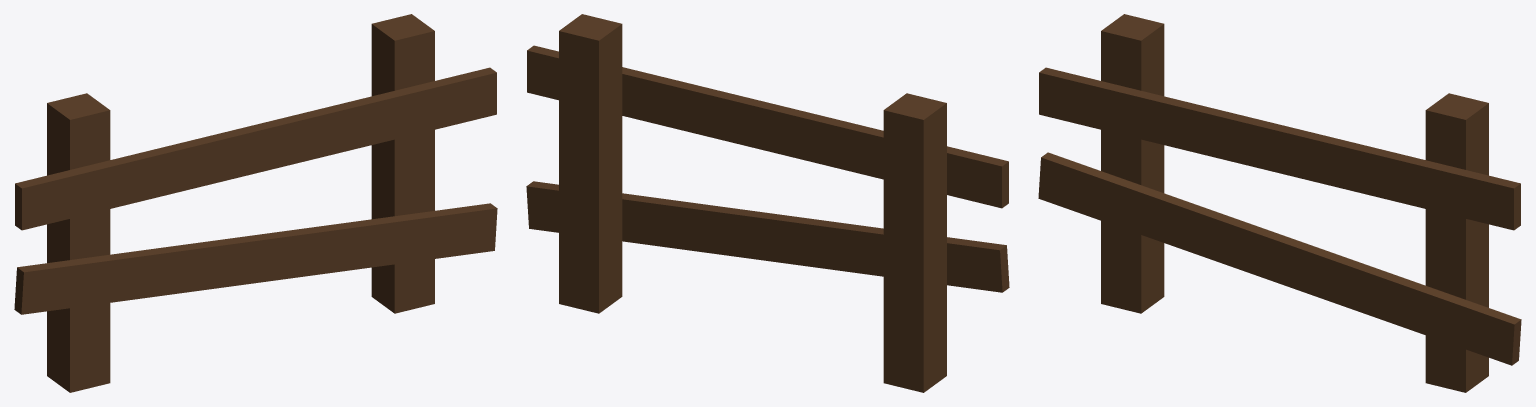
The model's file is Fence.fbx.
3 renders of one model, left to right at view 1: azimuth 30°, elevation 25°; view 2: azimuth 150°, elevation 25°; view 3: azimuth 330°, elevation 25°, orthographic.
Parts seen in each view (by area): view 1: Fence; view 2: Fence; view 3: Fence.
Part boxes in pixels (box(x1,y1,x2,y2)): Fence: box(14, 14, 497, 392); Fence: box(526, 14, 1009, 392); Fence: box(1038, 14, 1521, 392).
Bounding box in the file's own units: 129 × 70.95 × 14.2.
